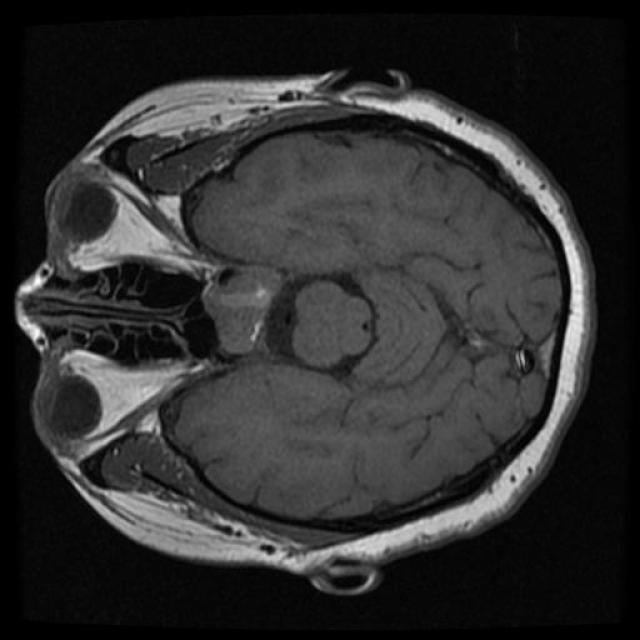Pituitary: (201, 267, 286, 353)
